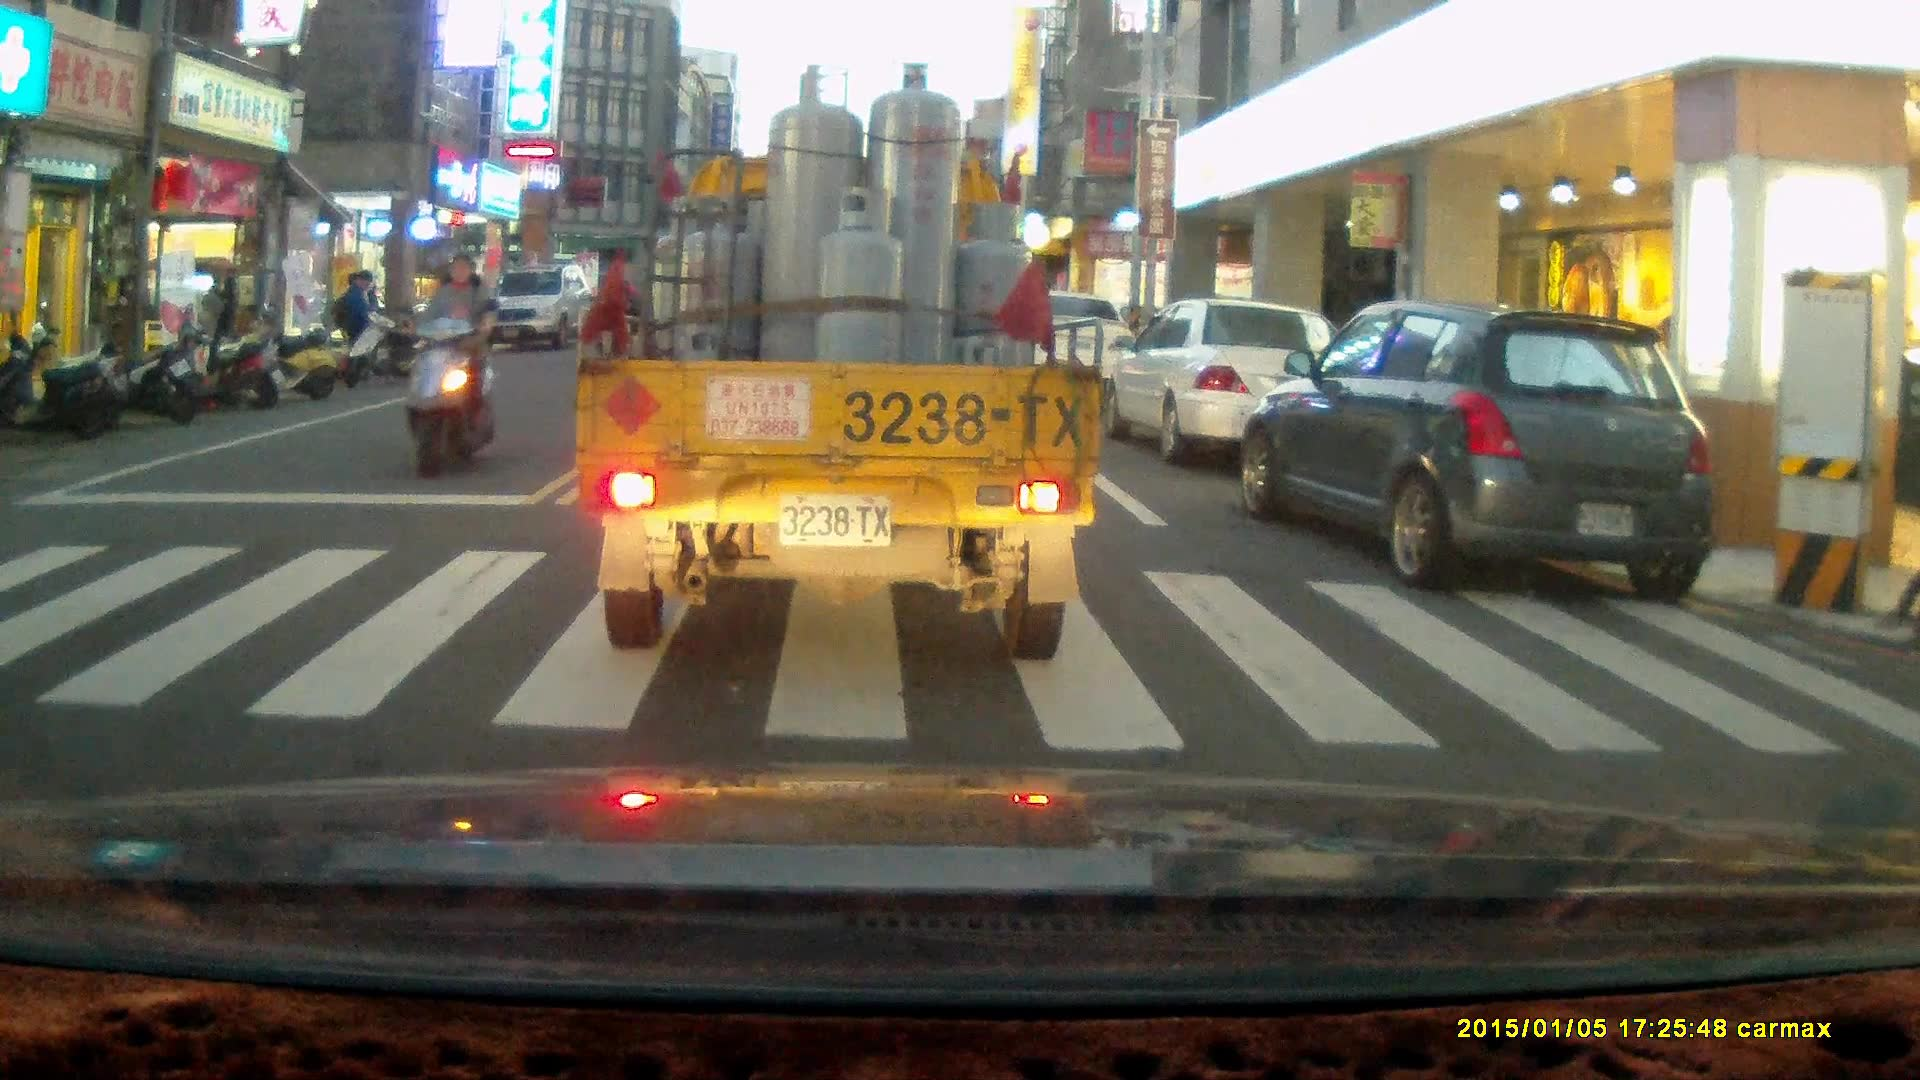pedestrian: (336, 268, 373, 379), (199, 271, 231, 374)
rider: (390, 246, 501, 482)
vehicle: (573, 63, 1108, 661), (1236, 295, 1720, 599), (1107, 297, 1364, 471), (990, 295, 1152, 428), (472, 268, 588, 359)
